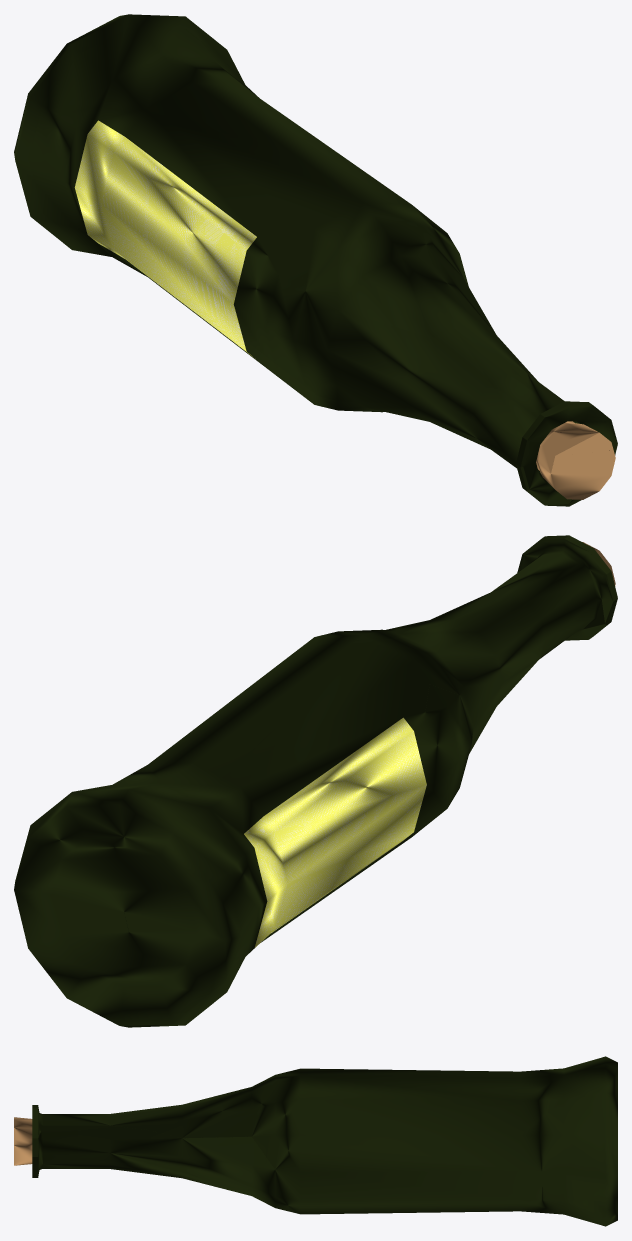
File: model_align.obj
3 renders of one model, top to bottom at view 1: azimuth 30°, elevation 25°; view 2: azimuth 150°, elevation 25°; view 3: azimuth 270°, elevation 25°, orthographic. The views are drawn at different scales.
Size of the model in its own units: 0.0435 by 0.0435 by 0.1538.
